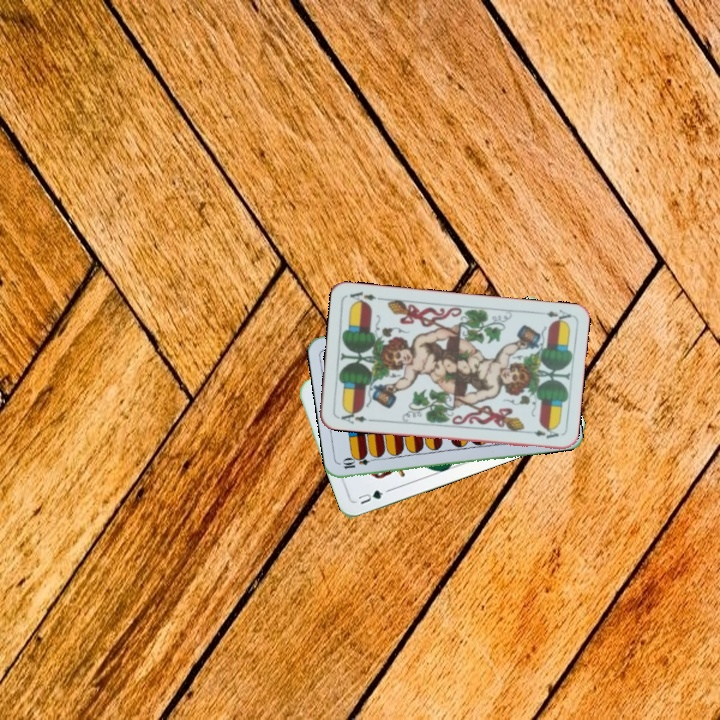E10: (339, 453, 379, 471)
EA: (533, 305, 574, 326), (334, 406, 374, 427)
GU: (354, 486, 386, 507)
